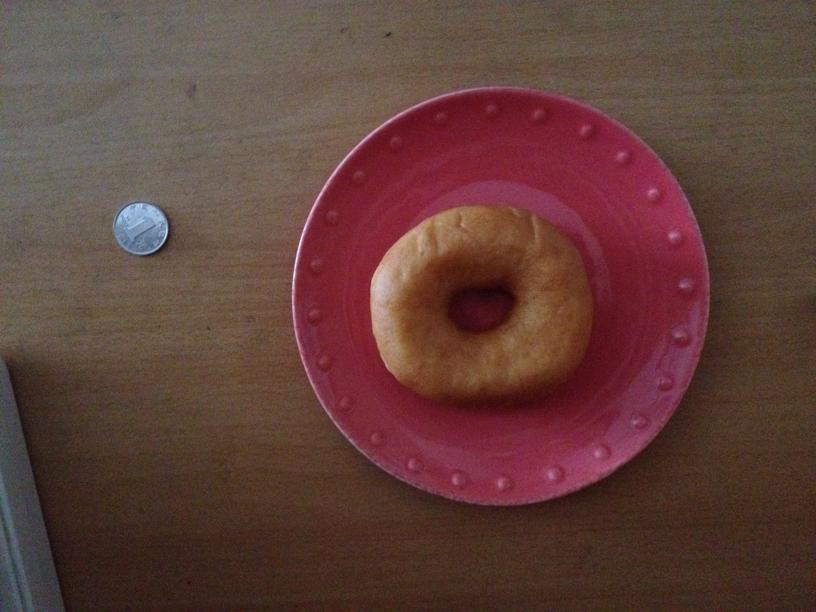coin: (110, 201, 172, 257)
doughnut: (371, 202, 600, 400)
